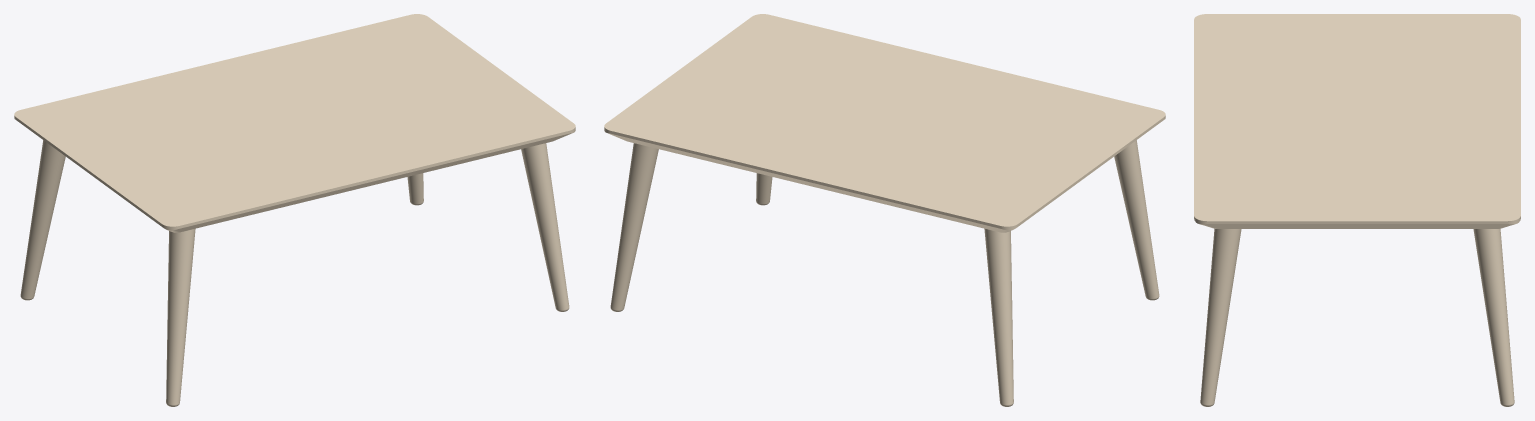
The model's file is 343_ローテーブル.glb.
3 renders of one model, left to right at view 1: azimuth 30°, elevation 25°; view 2: azimuth 150°, elevation 25°; view 3: azimuth 270°, elevation 25°, orthographic. The views are drawn at different scales.
Visible parts, largest first — view 1: Body1; view 2: Body1; view 3: Body1.
Boxes of the visible parts, x1,y1,x2,y2 form: Body1: [14, 14, 575, 406]; Body1: [604, 14, 1165, 406]; Body1: [1194, 14, 1520, 406].
Bounding box in the file's own units: 0.75 × 0.32 × 0.5.
